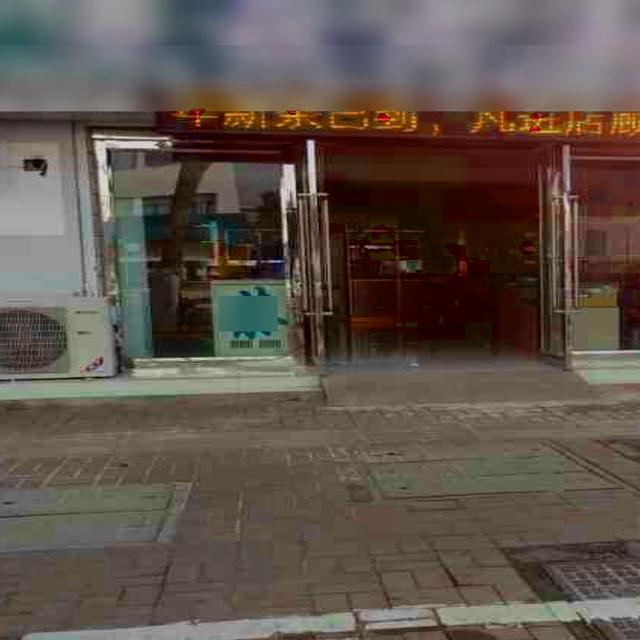good: (342, 435, 640, 500), (507, 530, 640, 640), (0, 482, 189, 551)
